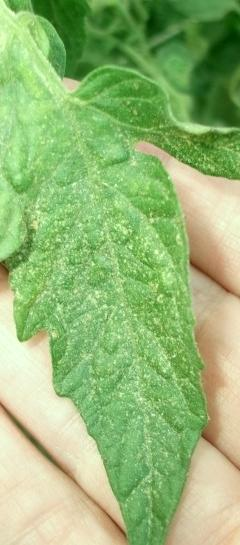Tomato mold leaf: (0, 36, 240, 545)
